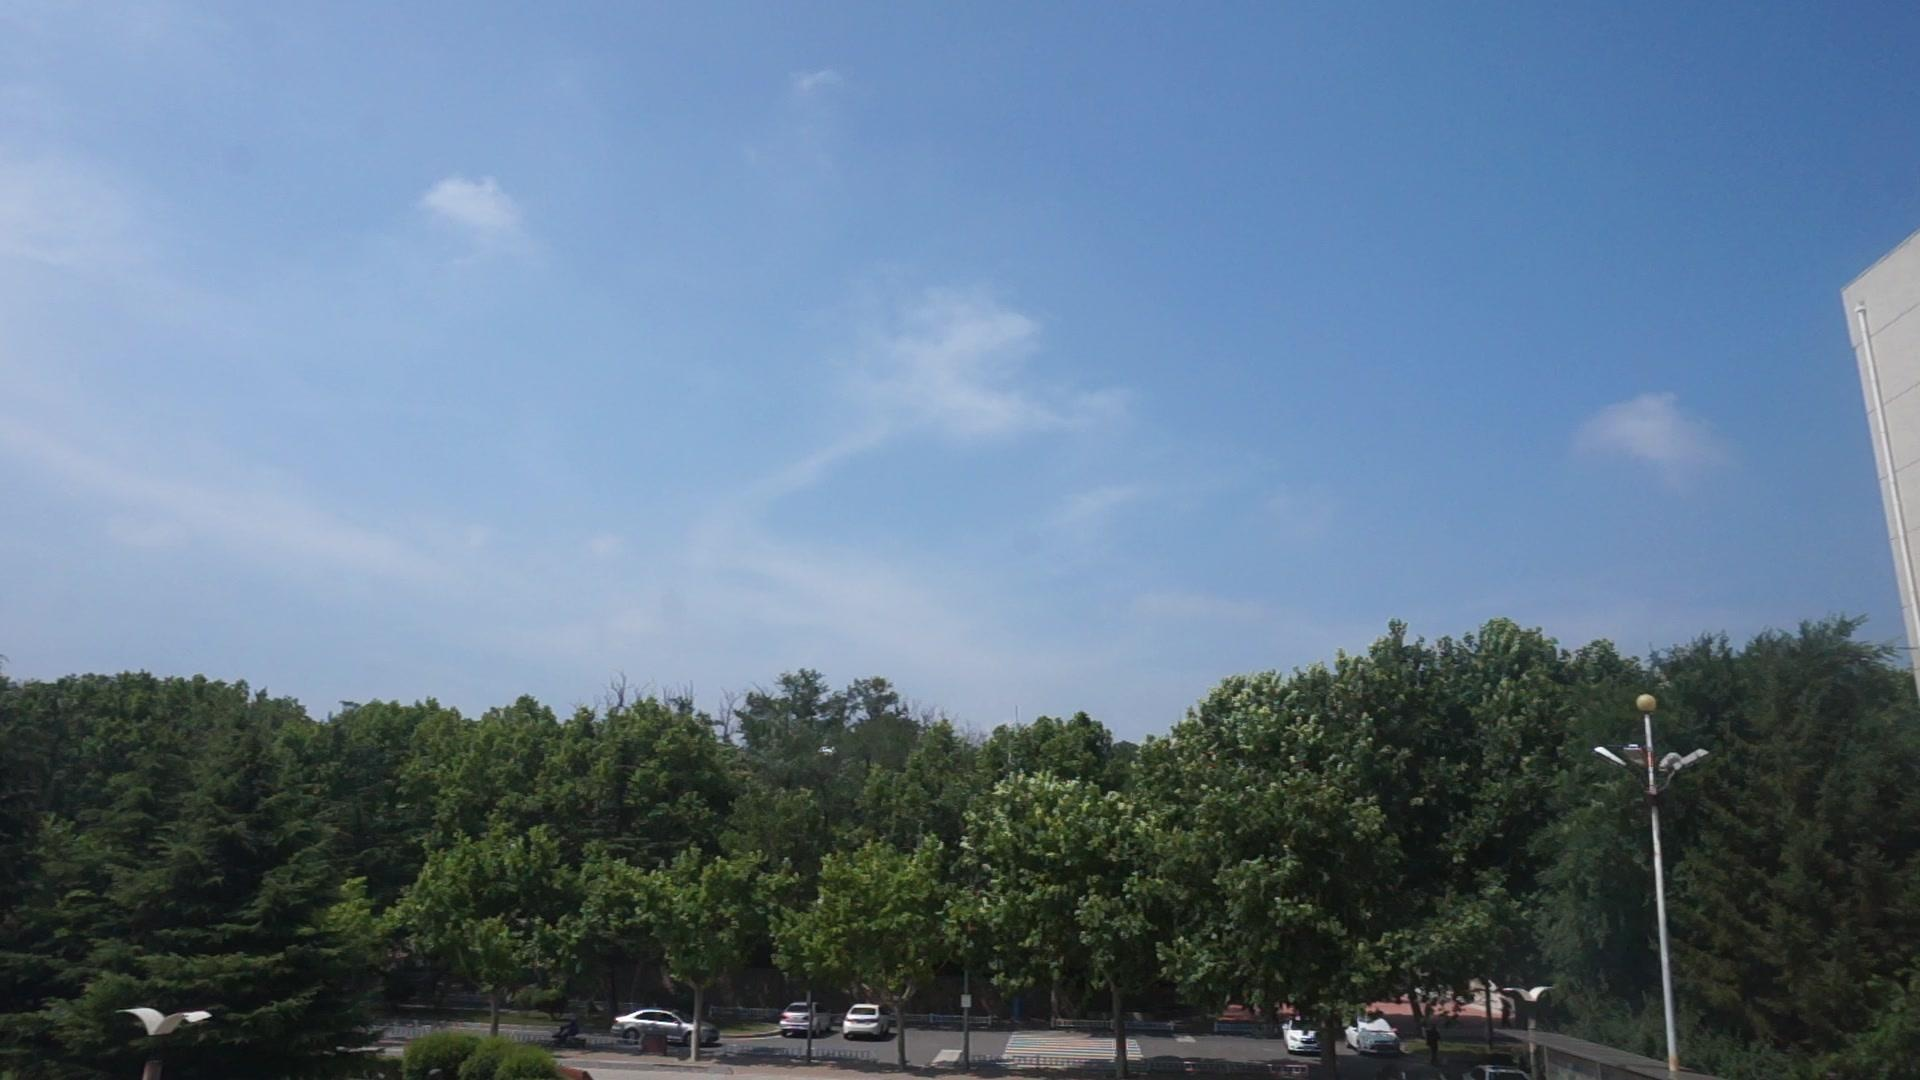UAV: (819, 746, 837, 757)
